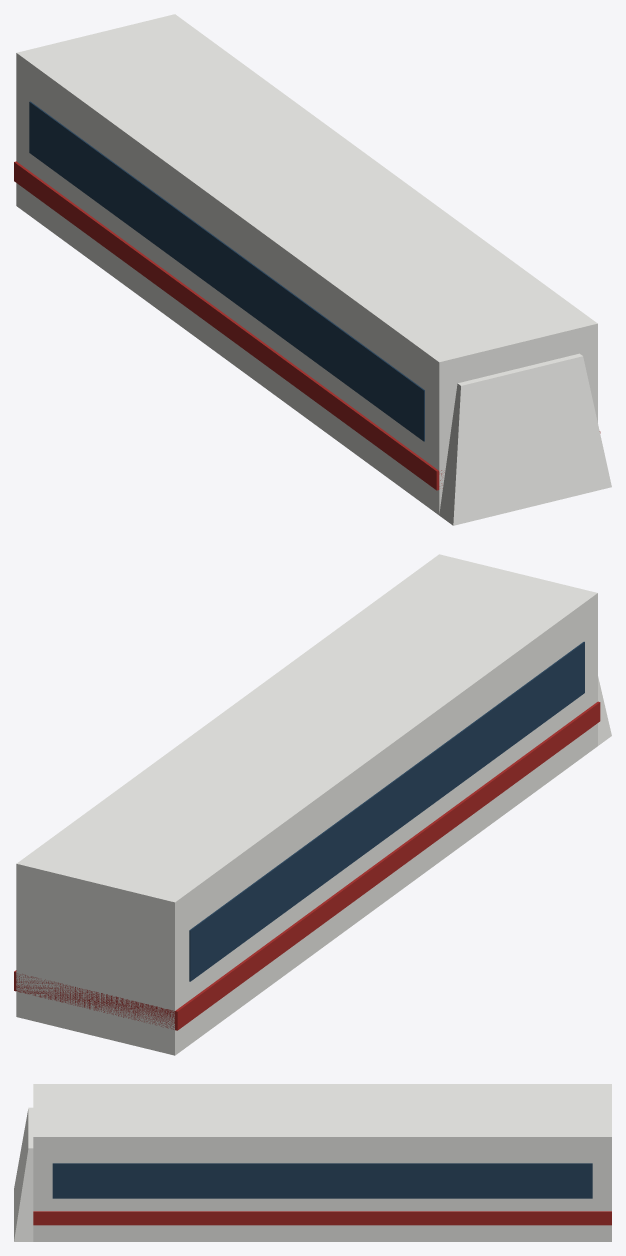
Rendered from vehicle_mrt.glb.
The picture shows the model from 3 angles, top to bottom: view 1: azimuth 30°, elevation 25°; view 2: azimuth 150°, elevation 25°; view 3: azimuth 270°, elevation 25°; orthographic projection. The views are drawn at different scales.
Parts seen in each view (by area): view 1: vehicle_mrt; view 2: vehicle_mrt; view 3: vehicle_mrt.
Part boxes in pixels (left/top/right/bottom): vehicle_mrt: left=14, top=14, right=611, bottom=525; vehicle_mrt: left=14, top=554, right=611, bottom=1055; vehicle_mrt: left=14, top=1084, right=611, bottom=1241.
Size of the model in its own units: 0.134 by 0.12 by 0.62.
